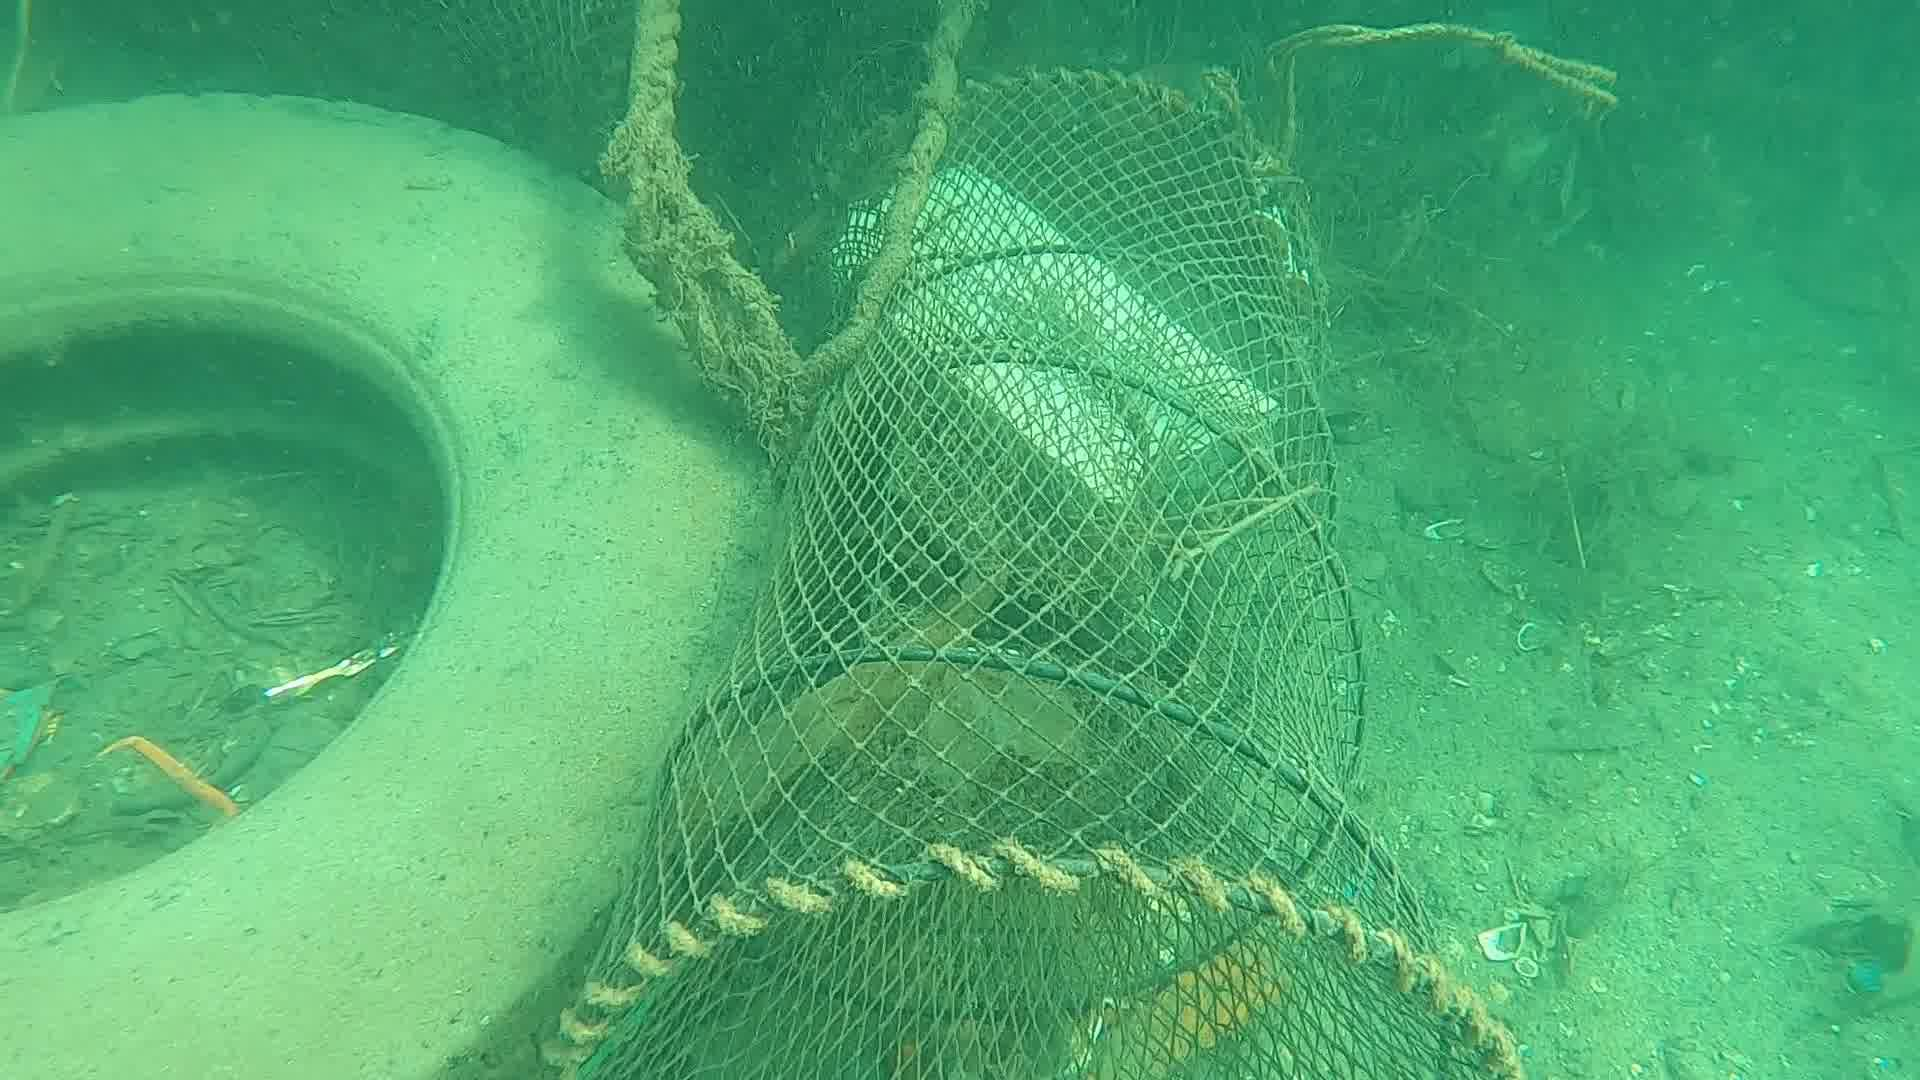bundle of ropes: (1257, 21, 1617, 165)
spring fish trap: (542, 69, 1527, 1073)
tire: (0, 88, 781, 1080)
